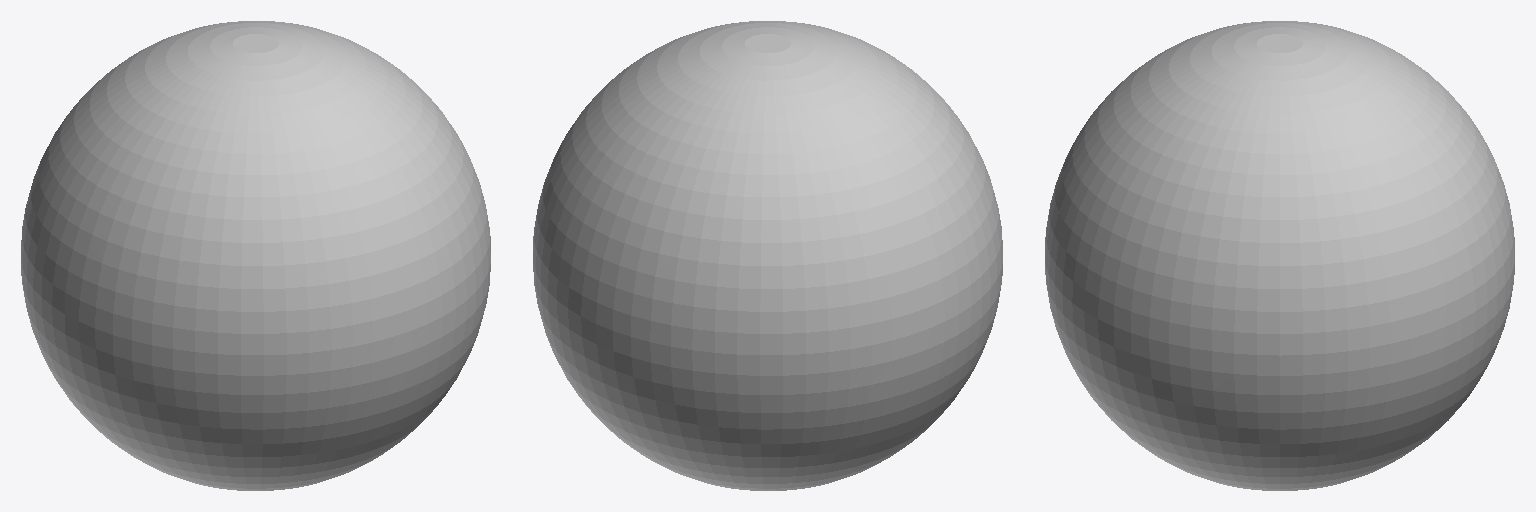
File: ball9.obj
The picture shows the model from 3 angles: view 1: azimuth 30°, elevation 25°; view 2: azimuth 150°, elevation 25°; view 3: azimuth 270°, elevation 25°; orthographic projection.
Visible parts, largest first — view 1: planet_Sphere.006; view 2: planet_Sphere.006; view 3: planet_Sphere.006.
Boxes of the visible parts, <box> form: planet_Sphere.006: <box>21,21,490,490</box>; planet_Sphere.006: <box>533,21,1002,490</box>; planet_Sphere.006: <box>1045,21,1514,490</box>.
Size of the model in its own units: 0.2214 by 0.2204 by 0.2214.